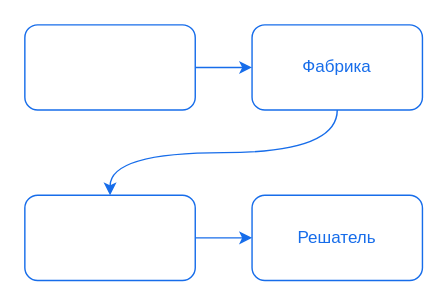
This 447x305 diagram has some shape labels left out. The centre of each missing label's shape, as x and y in pixels:
Класс: the point at 109,66
Словарь: the point at 109,237
